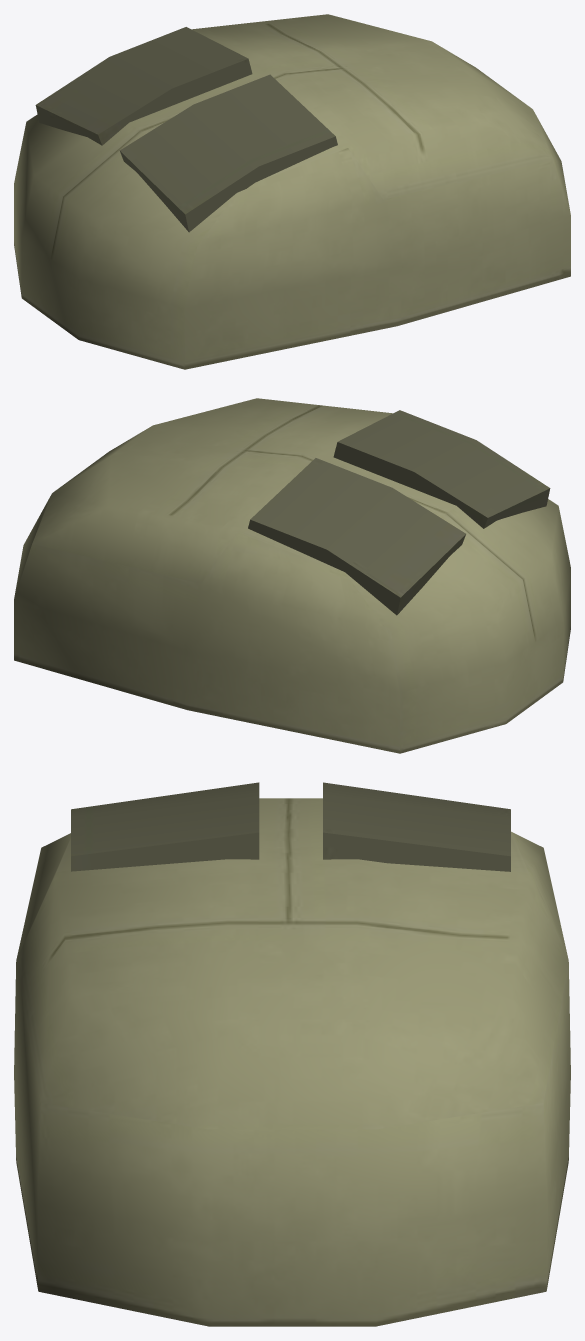
The model's file is mouse_single.gltf.
3 views of the same model, one above another, from view 1: azimuth 30°, elevation 25°; view 2: azimuth 150°, elevation 25°; view 3: azimuth 270°, elevation 25° (orthographic). The views are drawn at different scales.
Visible parts, largest first — view 1: Mouse_001.005_3; view 2: Mouse_001.005_3; view 3: Mouse_001.005_3.
Part boxes in pixels (x1=…): Mouse_001.005_3: x1=14, y1=14, x2=570, y2=369; Mouse_001.005_3: x1=14, y1=398, x2=570, y2=753; Mouse_001.005_3: x1=14, y1=782, x2=570, y2=1326.
Bounding box in the file's own units: 0.097 × 0.0388 × 0.0659.
